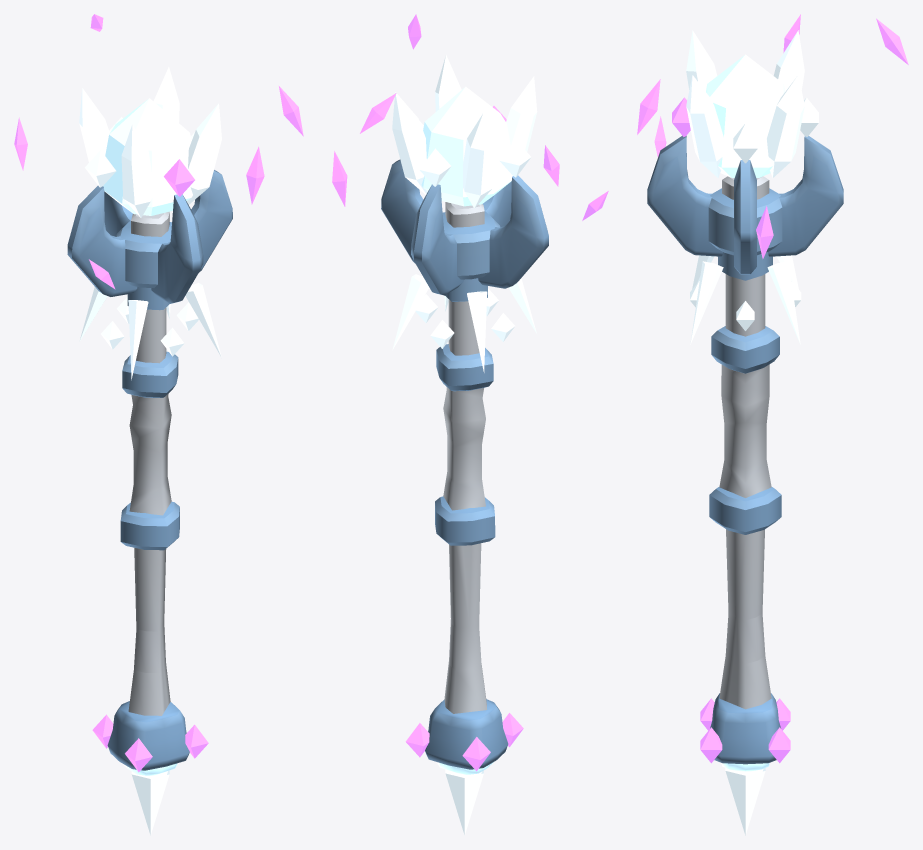
The model's file is staff_ice_epic.glb.
3 renders of one model, left to right at view 1: azimuth 30°, elevation 25°; view 2: azimuth 150°, elevation 25°; view 3: azimuth 270°, elevation 25°, orthographic. The views are drawn at different scales.
Parts seen in each view (by area): view 1: staff_ice_epic; view 2: staff_ice_epic; view 3: staff_ice_epic.
Part boxes in pixels (x1,y1,x2,y2): staff_ice_epic: (14, 14, 303, 835); staff_ice_epic: (332, 14, 608, 835); staff_ice_epic: (637, 14, 908, 835).
Size of the model in its own units: 74.25 by 234 by 70.29.
Materials: 5 (2 with a texture image).
